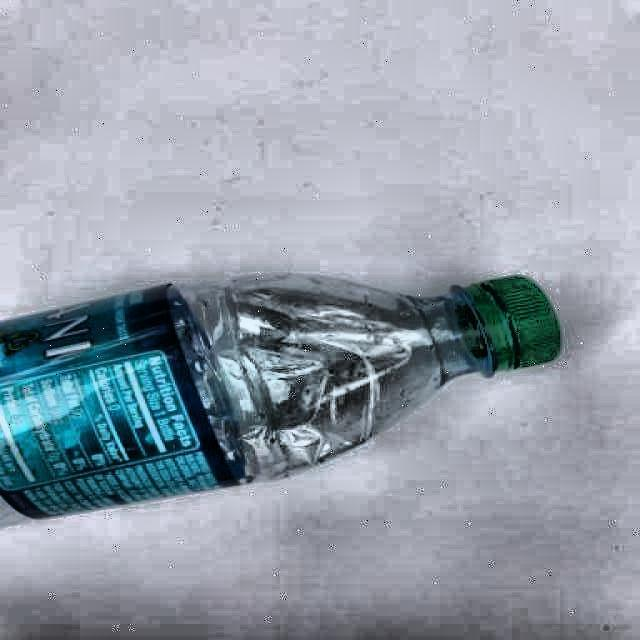plastic: (0, 275, 561, 524)
